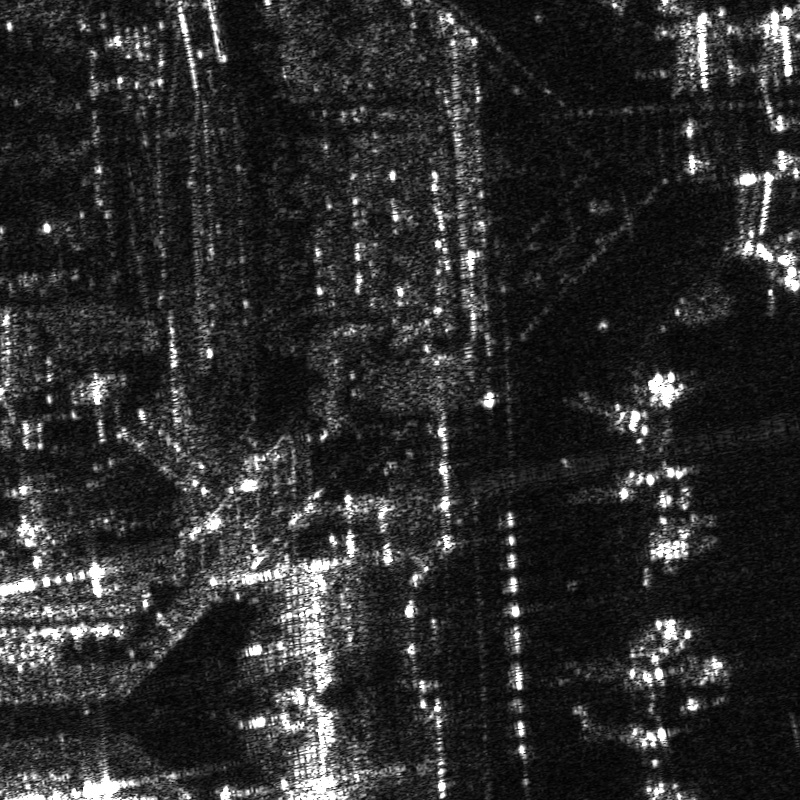A320/321: (624, 607, 731, 716)
